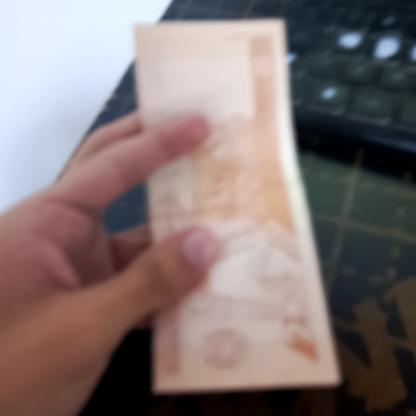twenty-back-vef: (138, 11, 340, 399)
